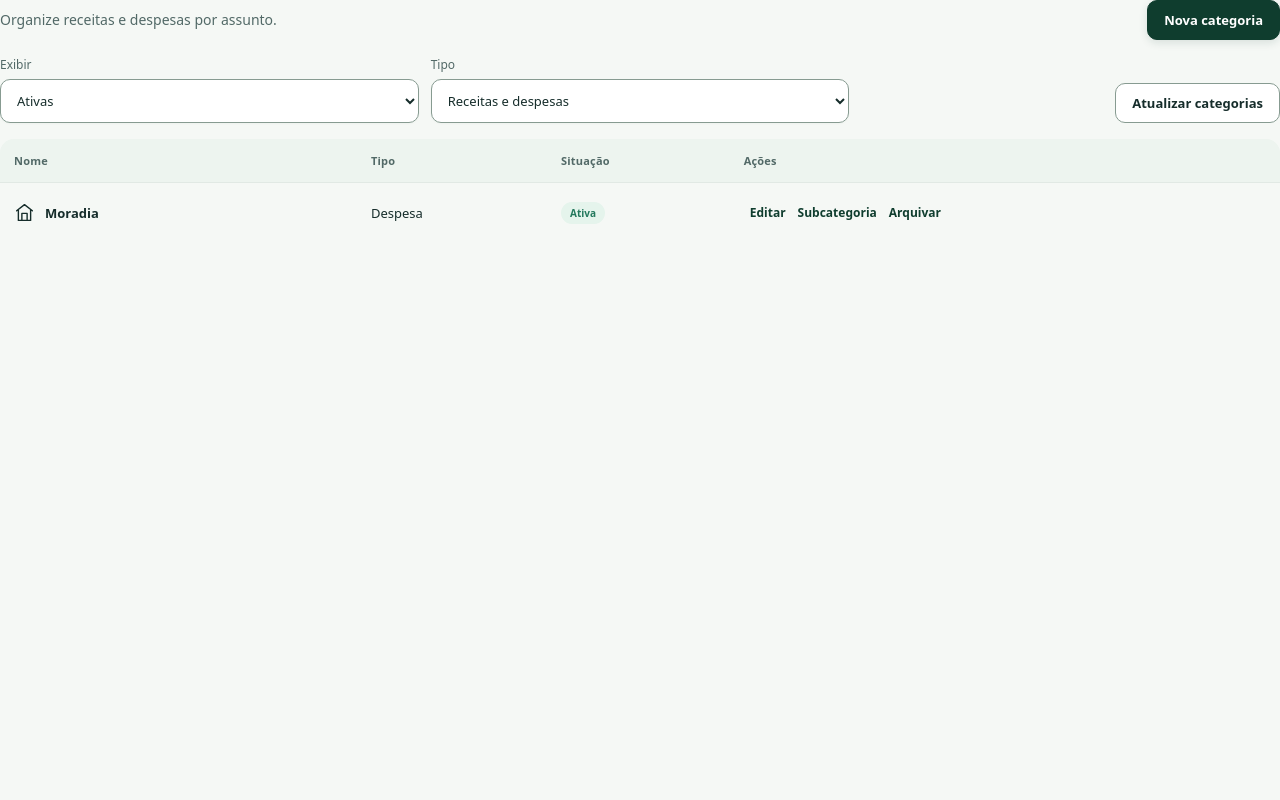
it: categorias › cria receita raiz e mostra erro de arquivamento sem retirar registros
Click the button with aria-label "Arquivar Moradia (Despesa)".
click(915, 212)  # box 883,198 -> 947,227
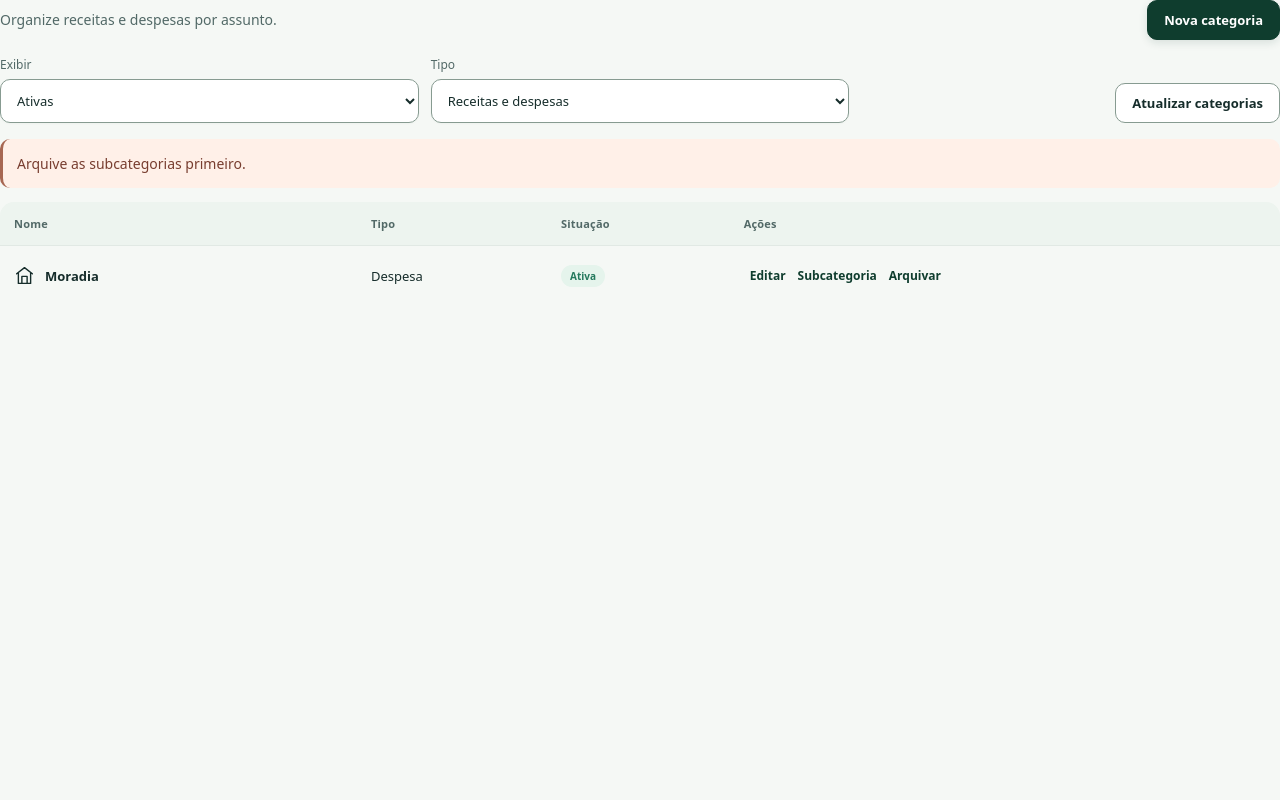
Expected: the text "Moradia" is shown, 45,266 -> 99,284
Now the text "Arquive as subcategorias primeiro." is shown, box 0,139 -> 1279,188
Click the button "Nova categoria".
click(1214, 20)  # box 1147,0 -> 1279,40
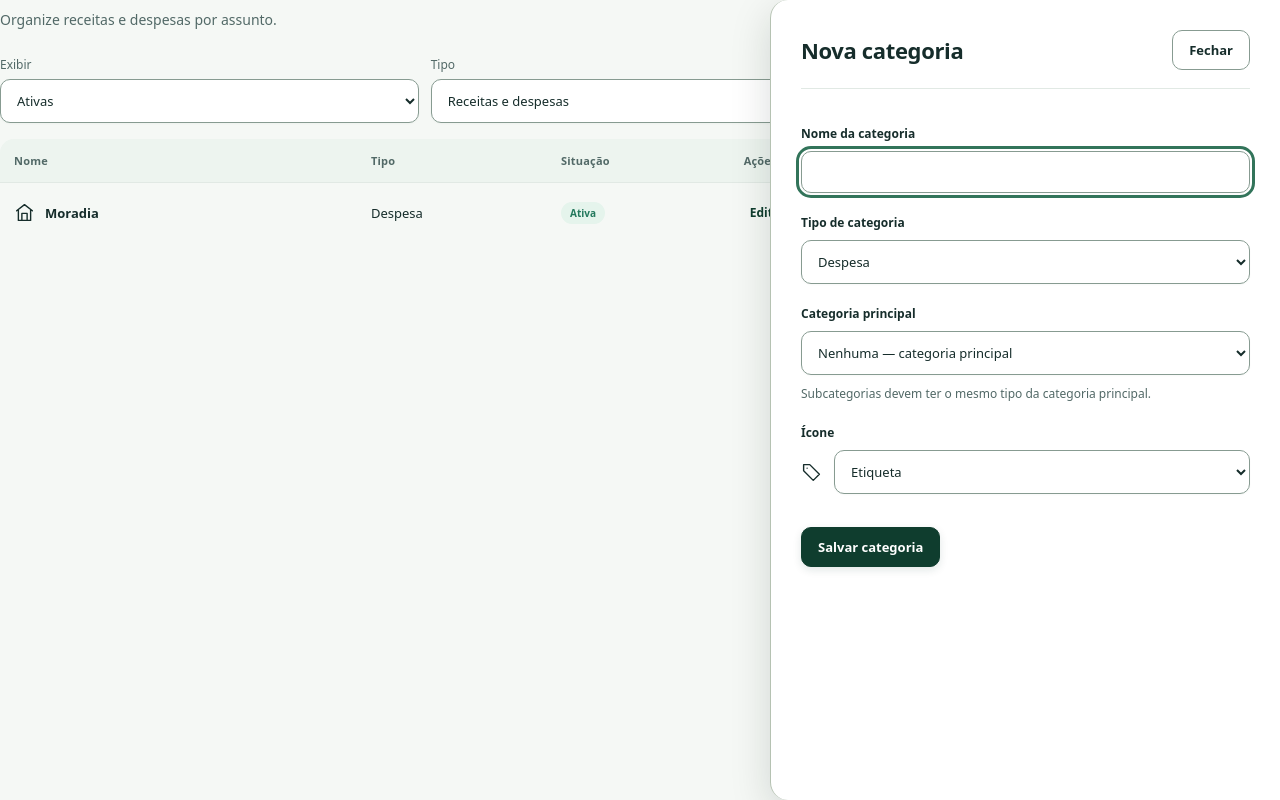
Type "Serviços" into the field labelled "Nome da categoria".
click(1026, 172); type("Serviços")  # box 801,151 -> 1250,193
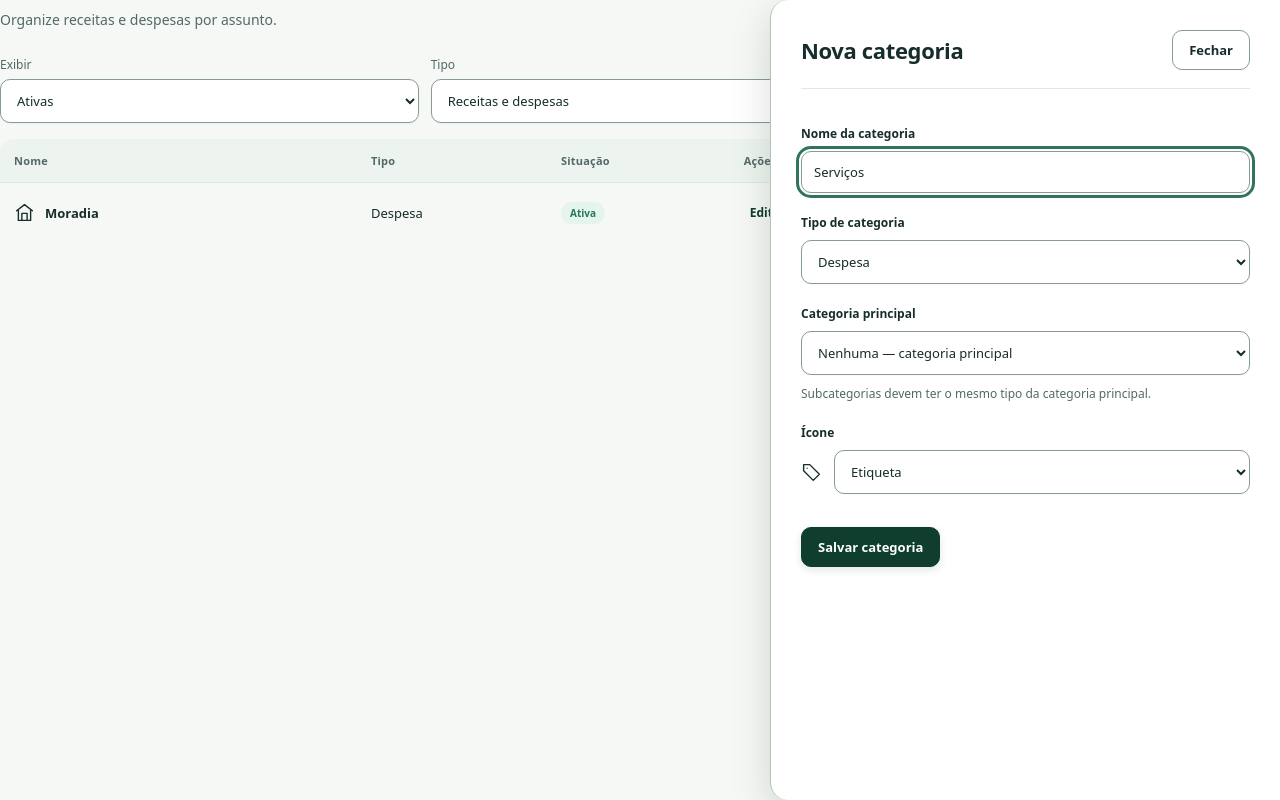
Select "Receita" in the dropdown labelled "Tipo de categoria" at point(1026, 262), box 801,240 -> 1250,284
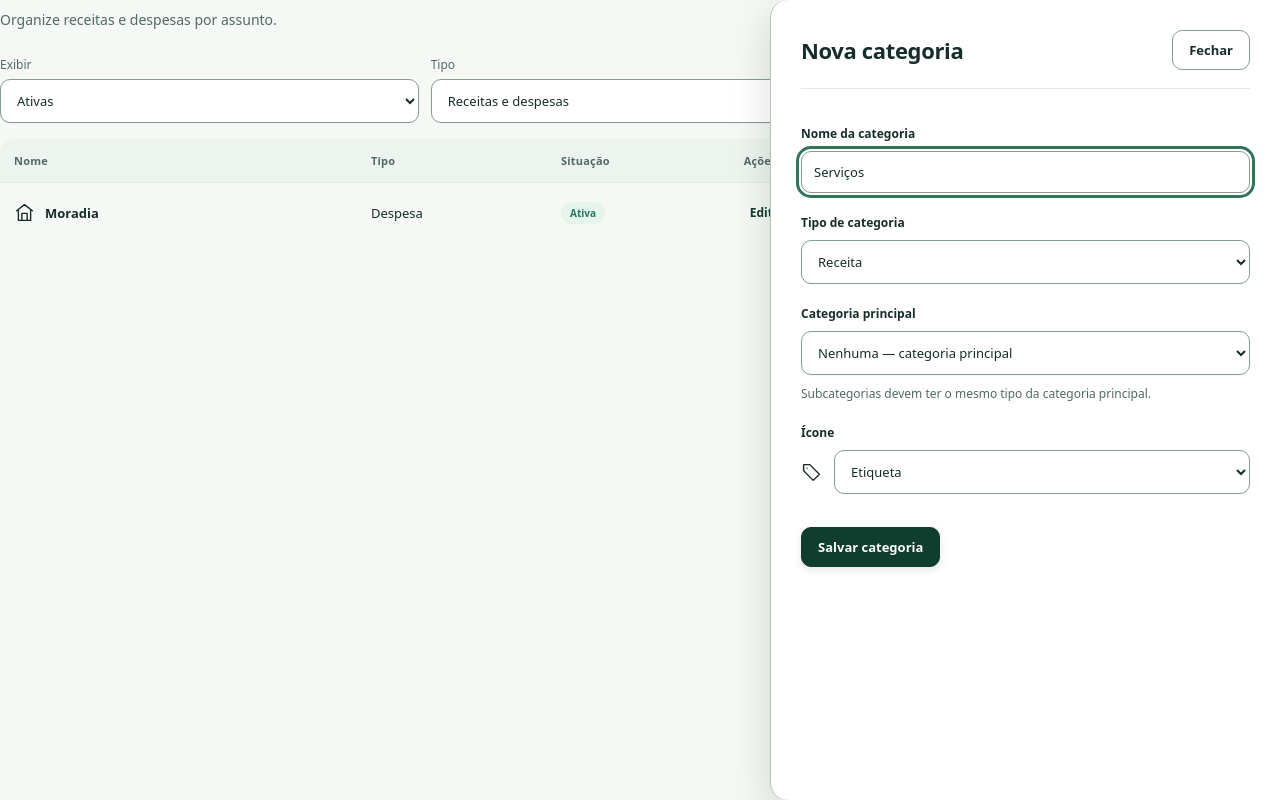
Click the button "Salvar categoria".
click(871, 547)  # box 801,527 -> 940,567
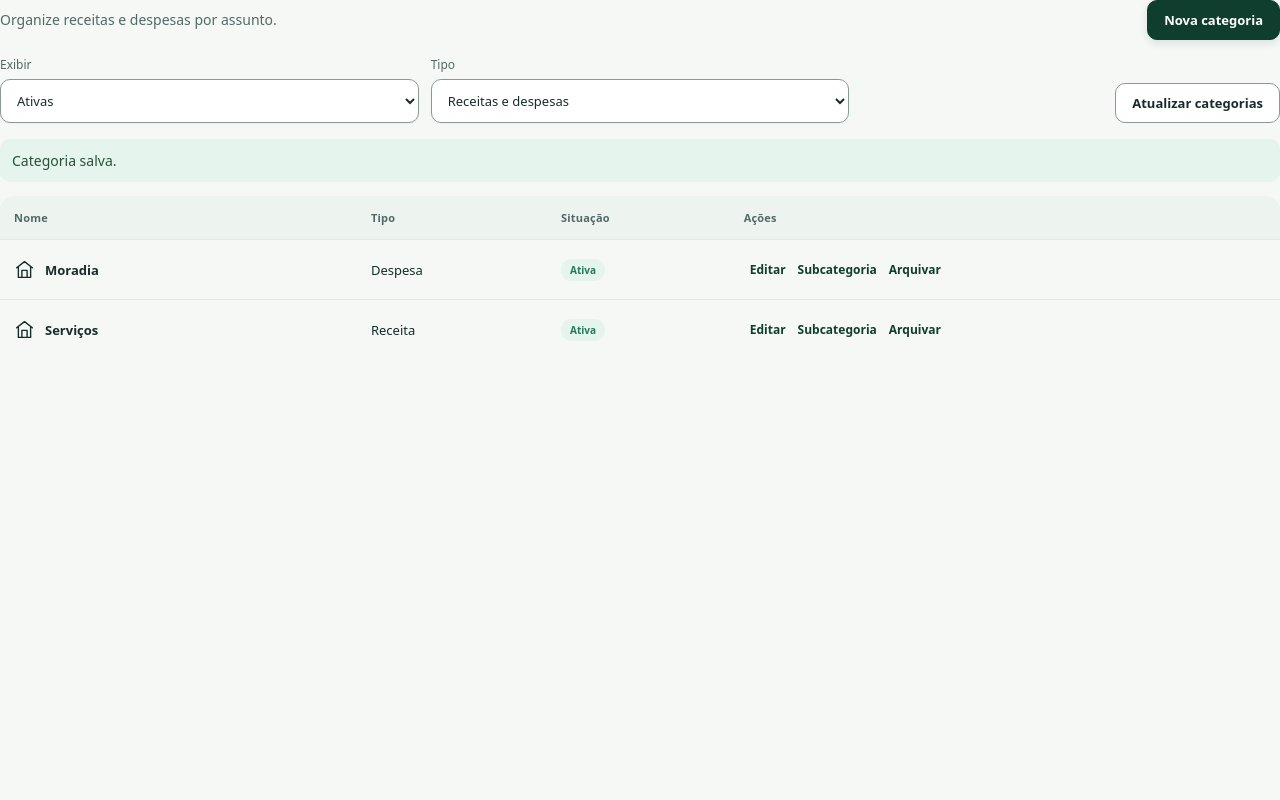
Now the text "Categoria salva." is shown, box 0,139 -> 1279,182
Select "Receitas" in the dropdown labelled "Tipo" at point(640, 101), box 431,79 -> 849,123
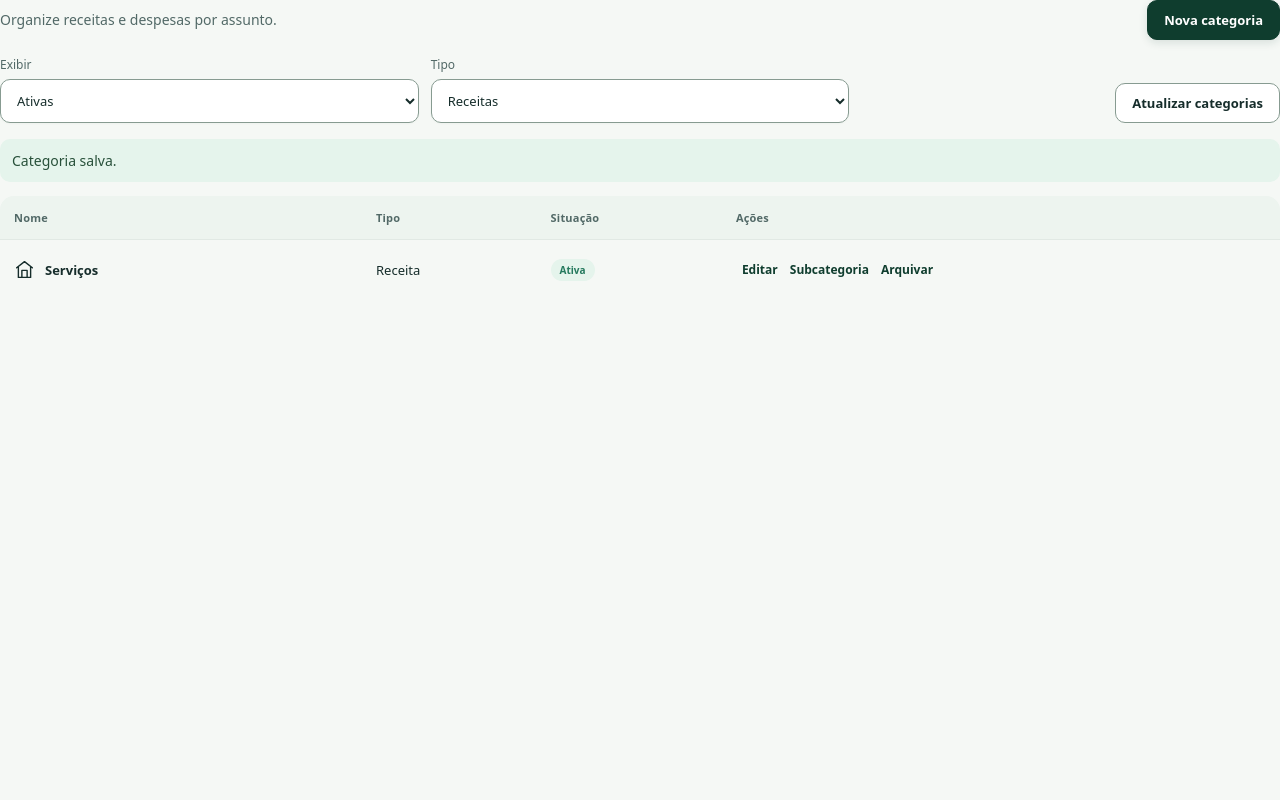
Now the text "Serviços" is shown, box 45,260 -> 98,278
Now the text "Moradia" is gone
